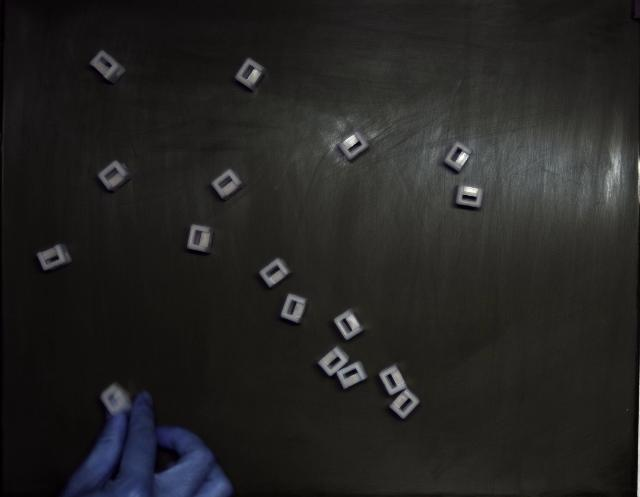fourth_side: (90, 50, 125, 84), (98, 160, 134, 191), (211, 169, 245, 200), (235, 58, 266, 91), (36, 244, 71, 271), (334, 309, 364, 340), (318, 346, 349, 376), (259, 259, 291, 288), (336, 361, 368, 390), (390, 389, 420, 419), (339, 131, 369, 160), (444, 141, 472, 172), (280, 294, 308, 324), (379, 365, 406, 396), (188, 224, 215, 254), (456, 185, 484, 208)
